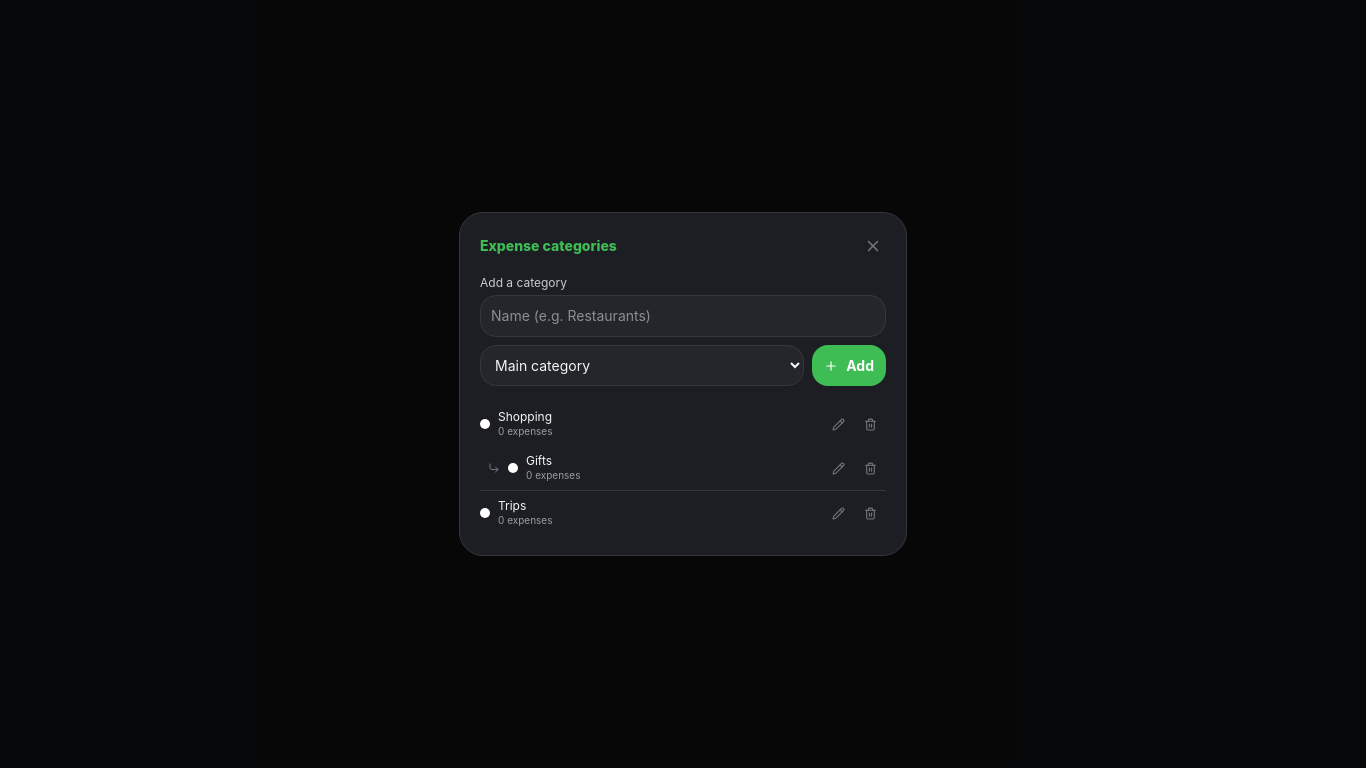
Test case: MONEY Manage: similar names › an exactly taken name is still refused
Type "gifts" into the field with placeholder "Name (e.g. Restaurants)" at (683, 316), box [480,295,886,337]
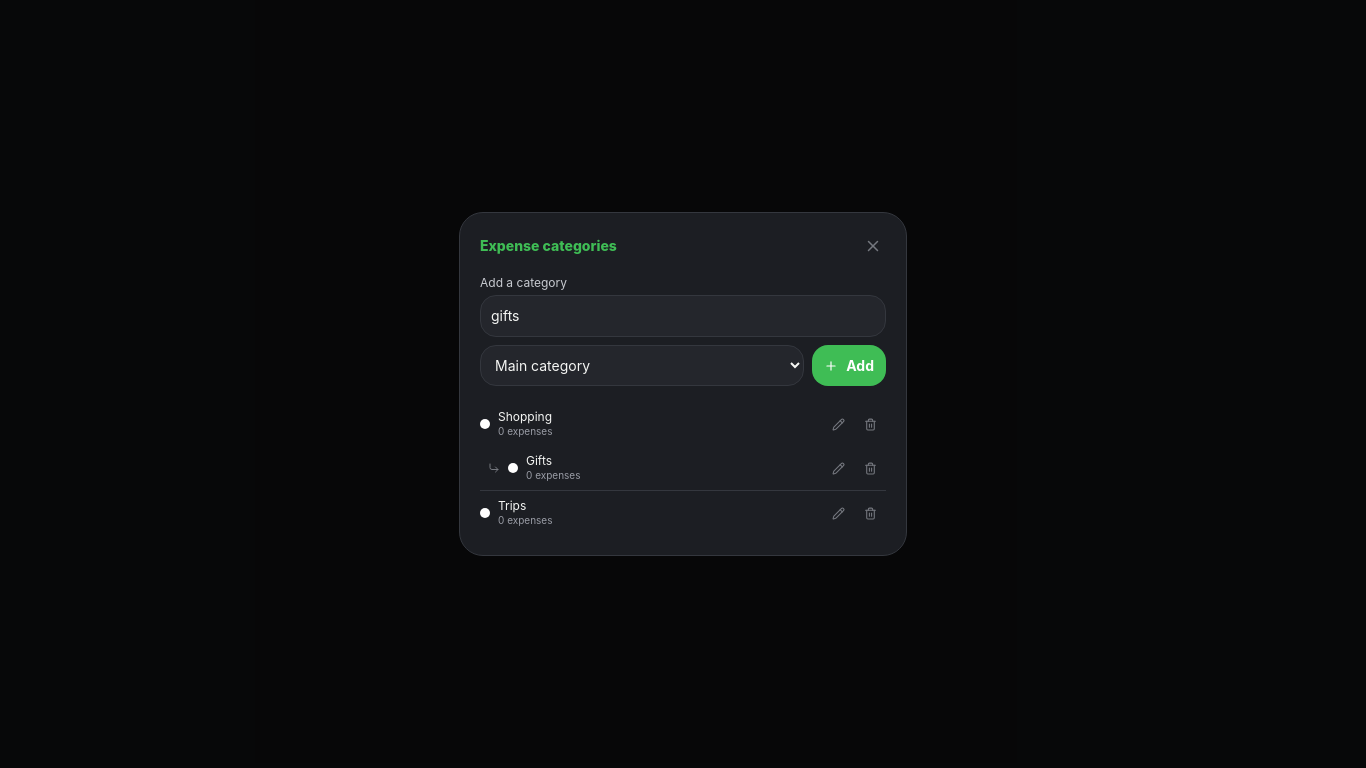
Click the button "Add" at (849, 366), box [812,345,886,386]
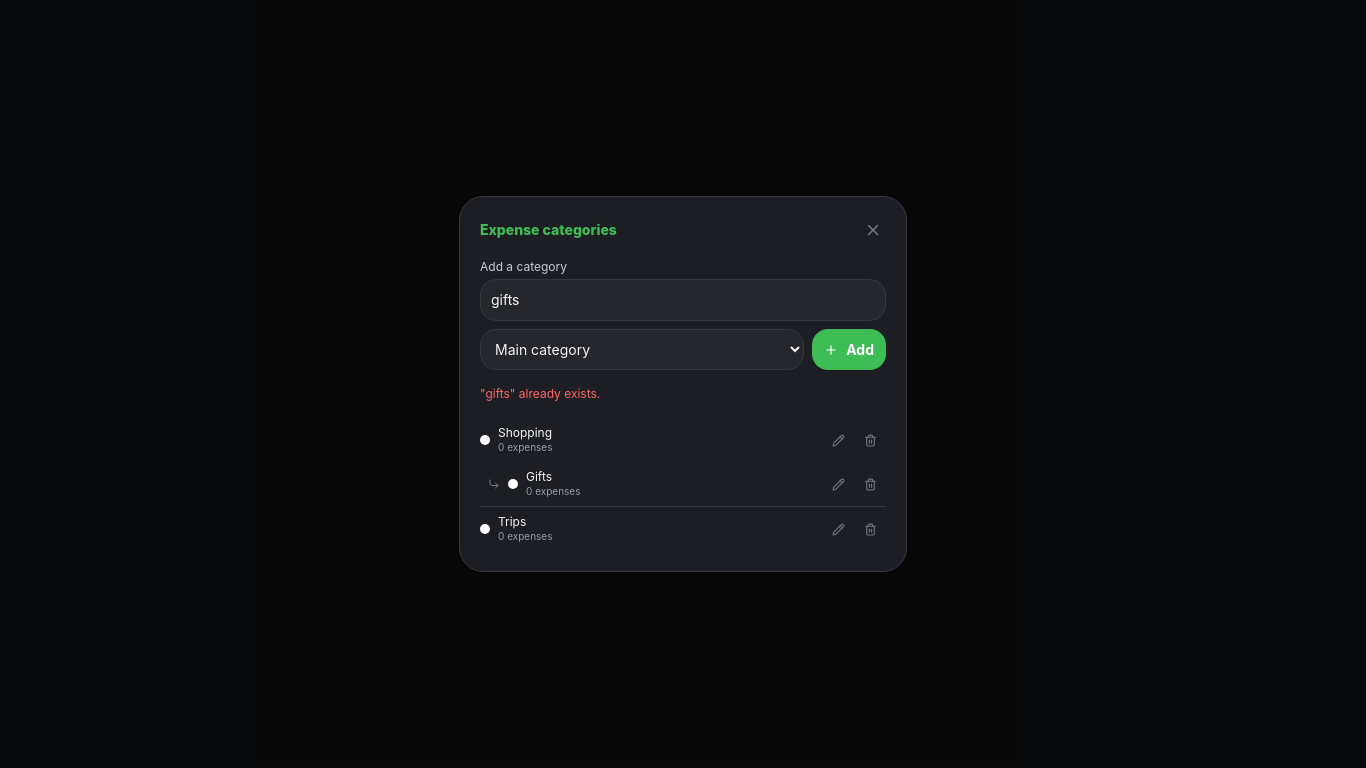
Result: the text "\"gifts\" already exists." is shown at [480,386,600,401]
